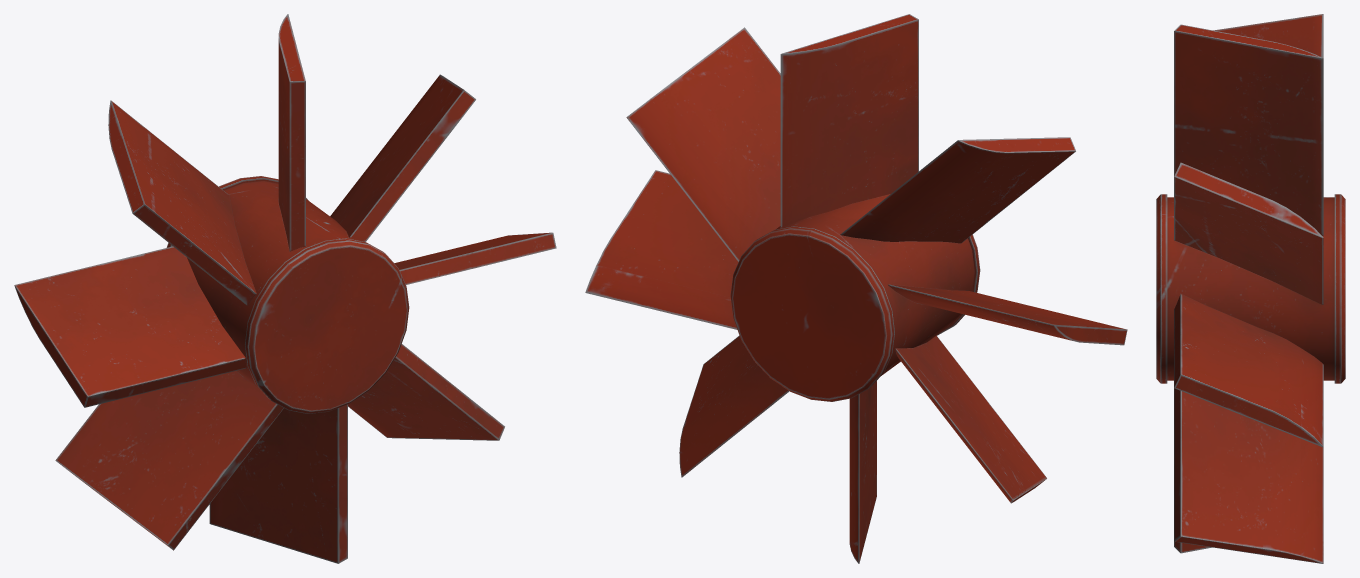
File: Fan.dae
The picture shows the model from 3 angles, left to right: view 1: azimuth 30°, elevation 25°; view 2: azimuth 150°, elevation 25°; view 3: azimuth 270°, elevation 25°; orthographic projection.
Parts seen in each view (by area): view 1: Fan; view 2: Fan; view 3: Fan.
Part boxes in pixels (bbox=[...]): Fan: bbox=[14, 14, 556, 563]; Fan: bbox=[585, 14, 1127, 563]; Fan: bbox=[1156, 14, 1345, 563].
Size of the model in its own units: 8.18 by 2.8 by 8.18.
